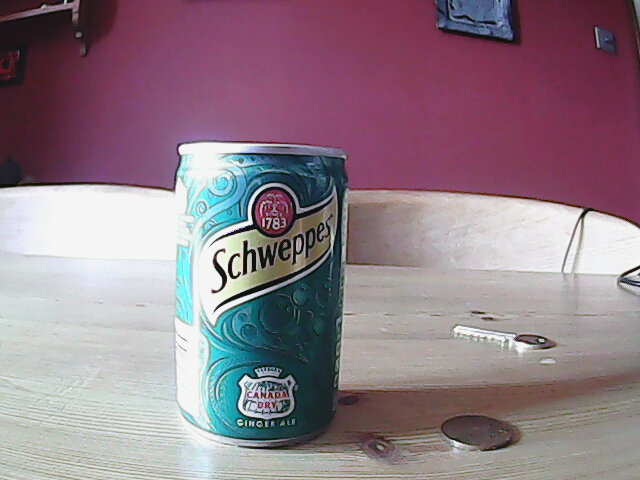Can: (165, 141, 347, 452)
Coin: (436, 415, 515, 450)
Key: (452, 321, 554, 354)
